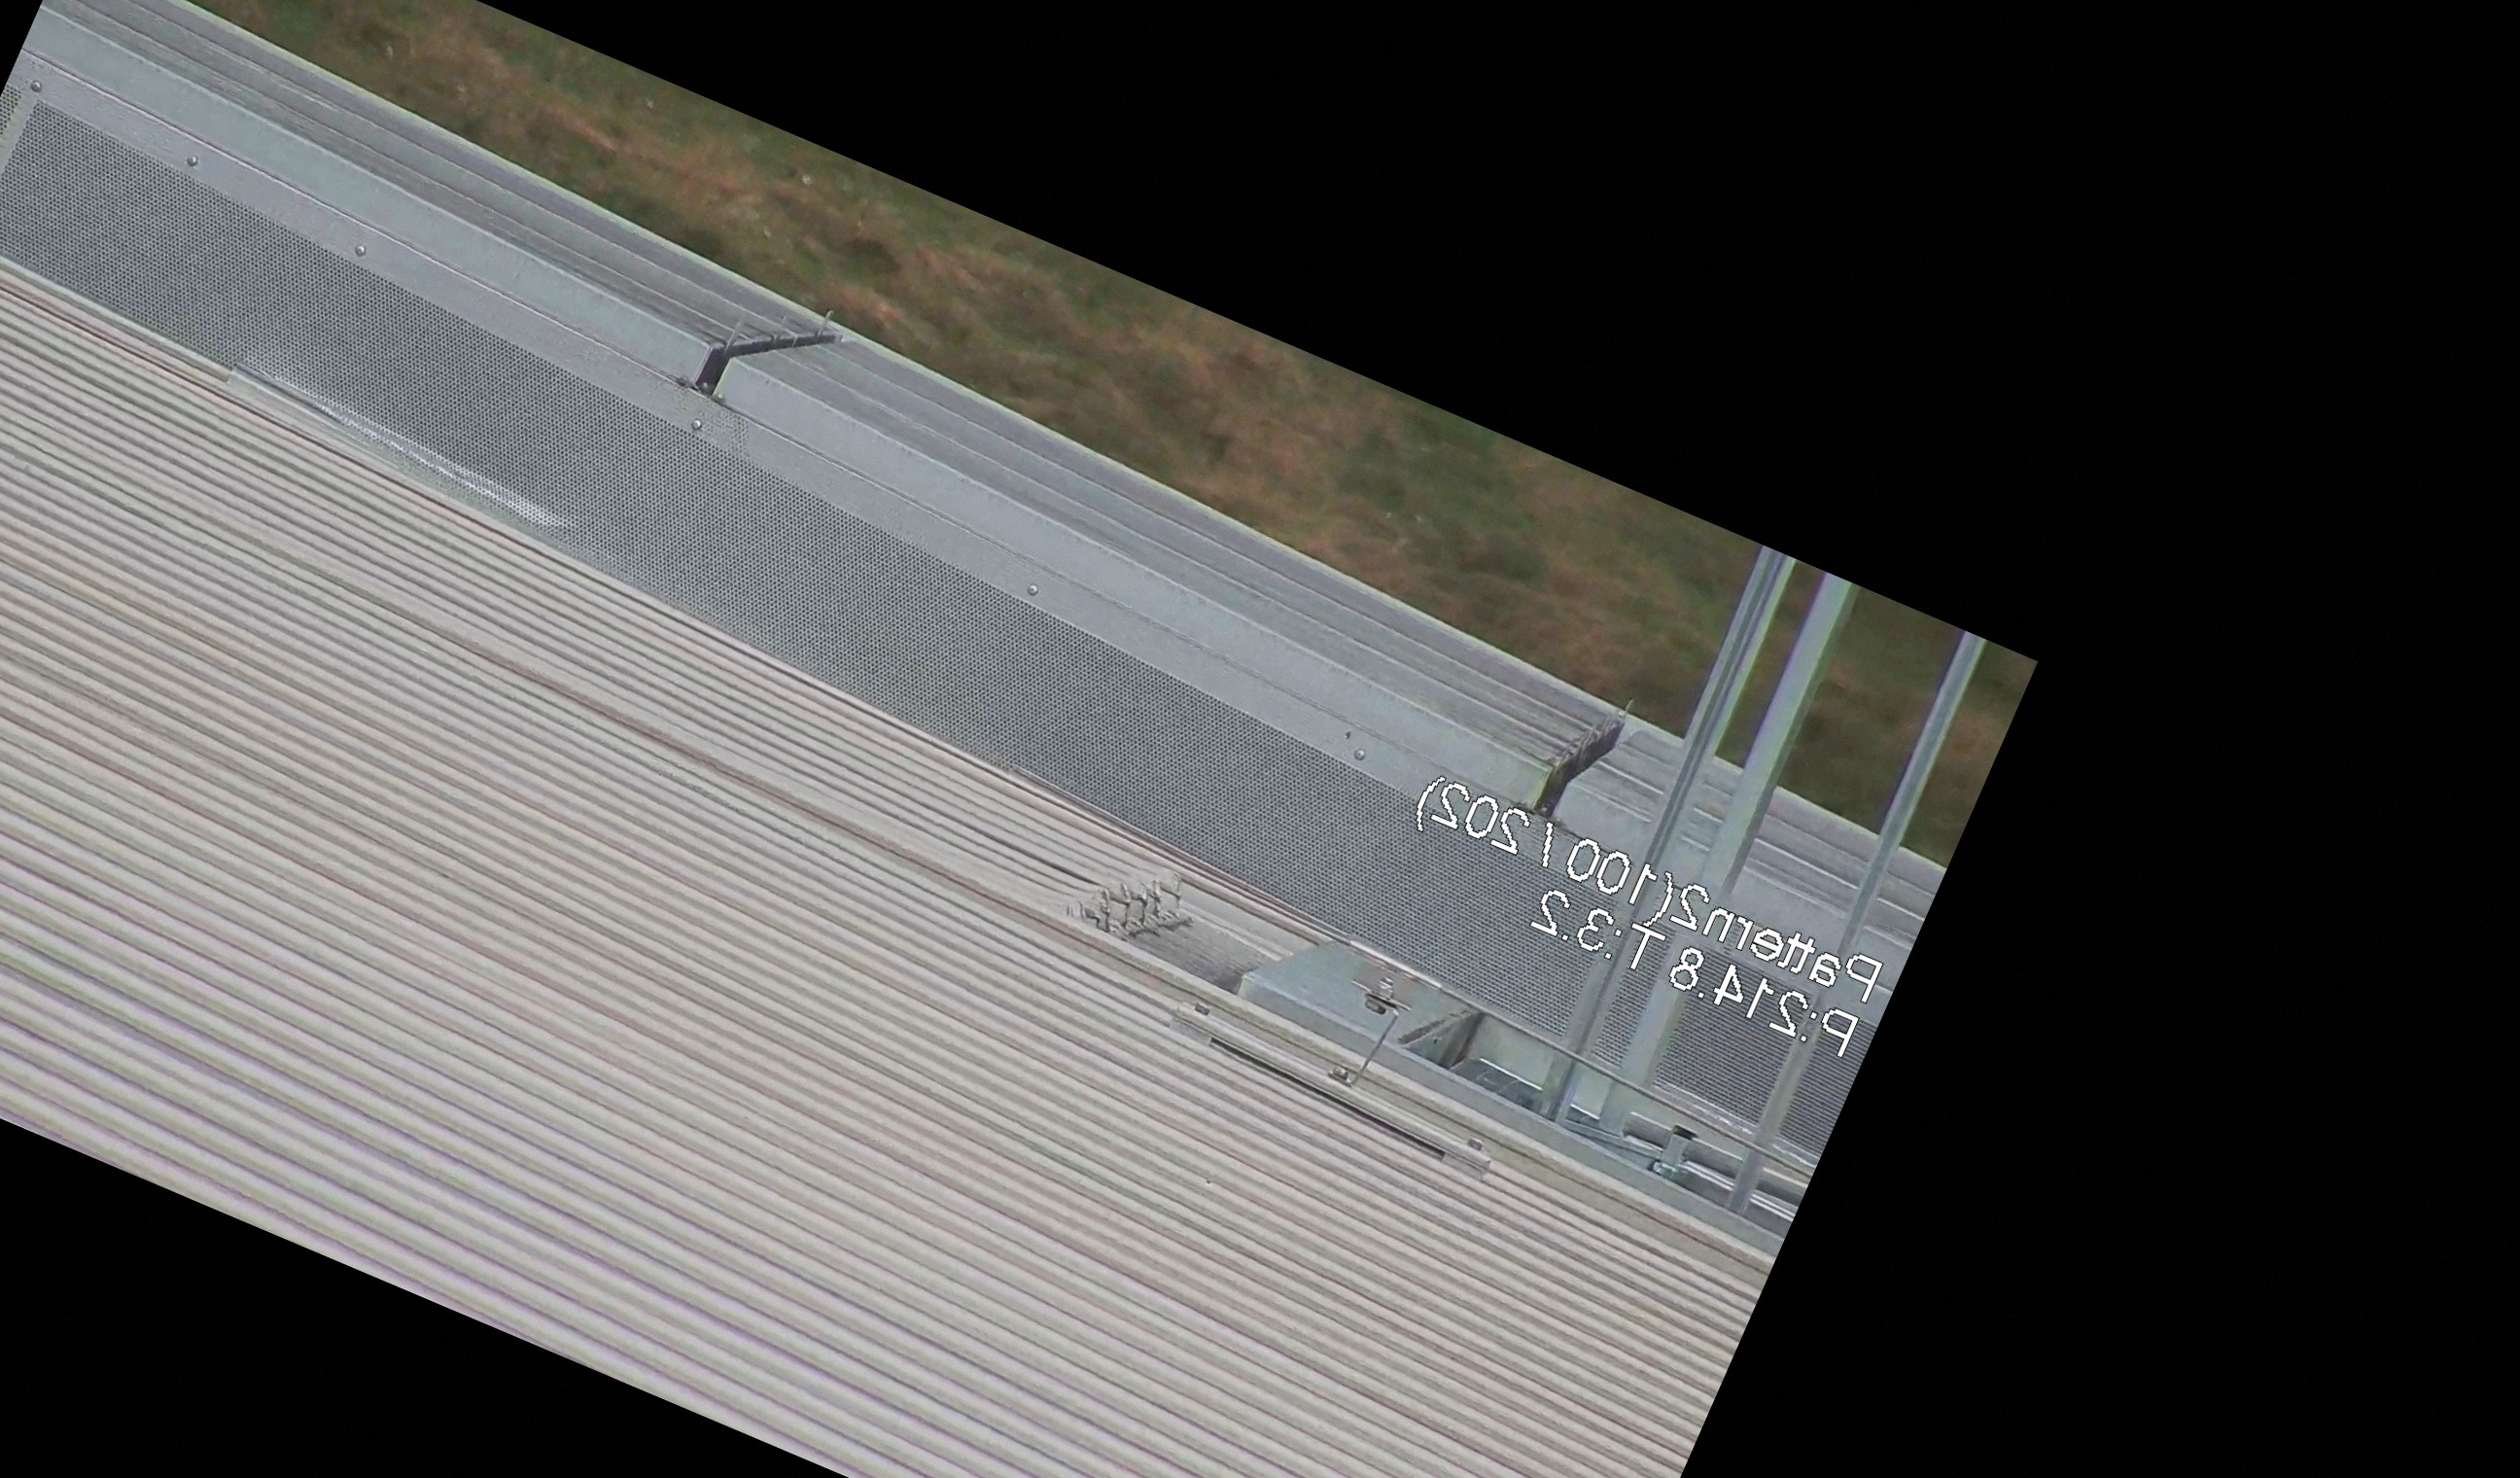Other: (1514, 690, 1669, 873)
